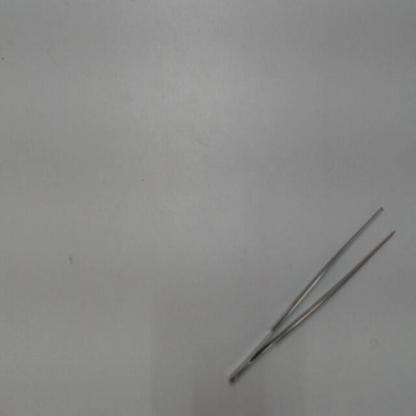Gillies Toothed Dissector: (220, 193, 404, 398)
